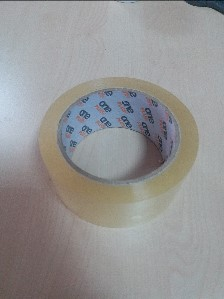band: (37, 78, 195, 240)
